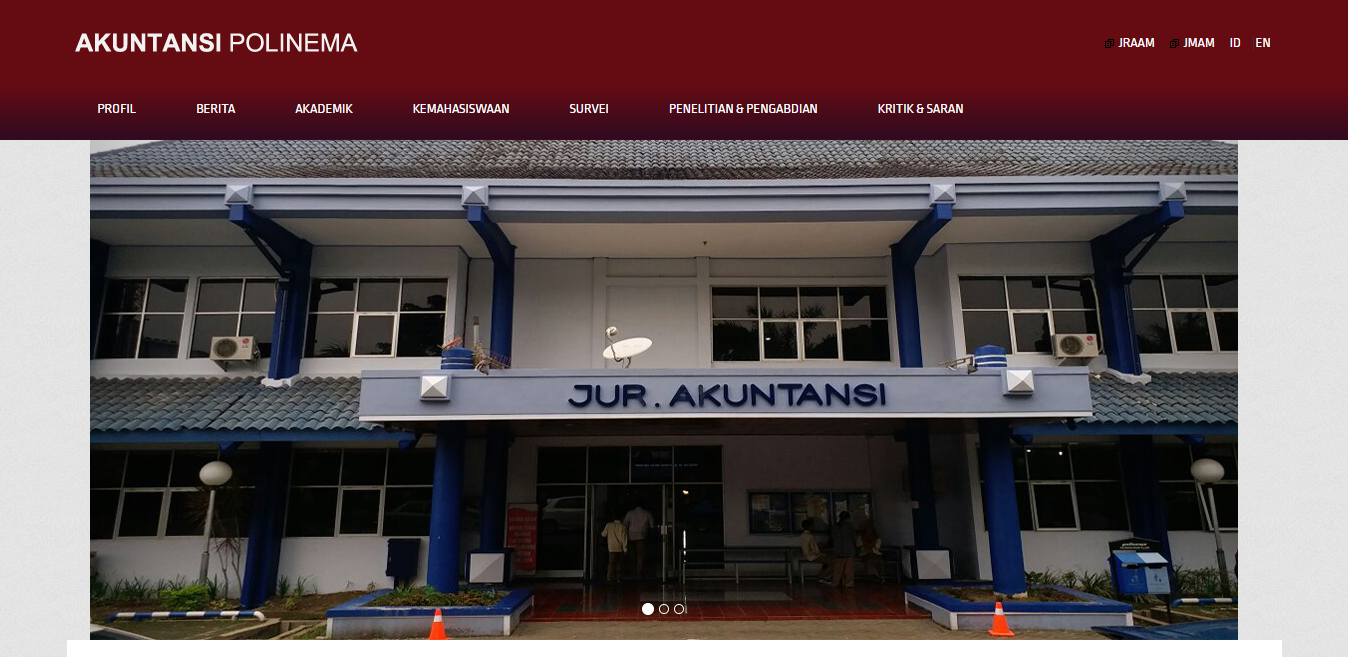Image: (82, 138, 1243, 647)
Menu Bar: (82, 88, 974, 136)
Nav Bar: (1103, 26, 1158, 61), (1166, 26, 1218, 56), (1251, 28, 1277, 56), (1224, 27, 1247, 55)
